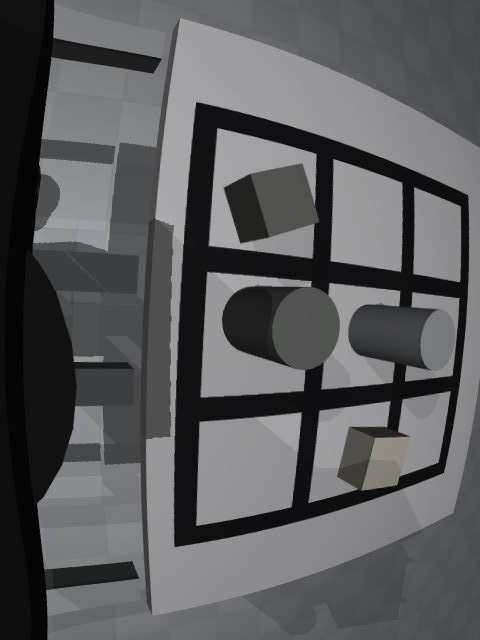can: (348, 304, 456, 371)
cube: (224, 163, 319, 243)
cylinder: (222, 287, 340, 370)
foam: (337, 426, 410, 491)
